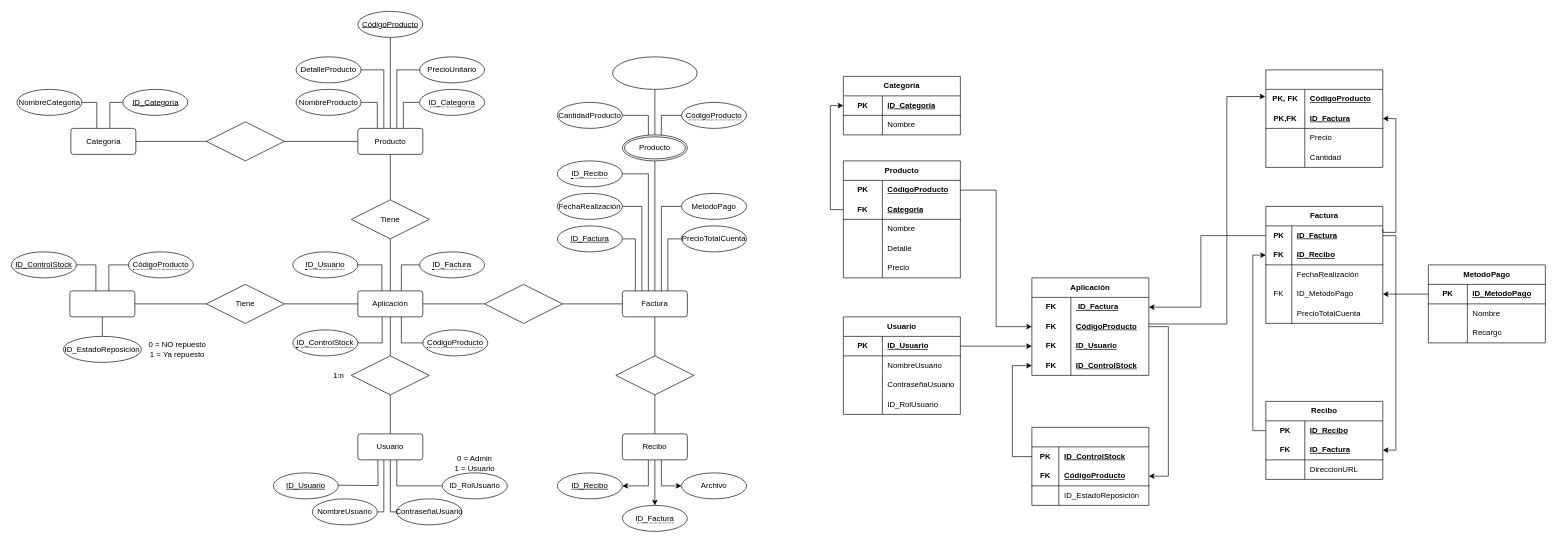
Some shapes in this 1557 by 543 pixel diagram are drawn without their labels. The shapes that lost their labels are listed below. From the top down, each one's box as (x1, y1, x2, y2) in pixels, then its label:
(612, 56, 697, 89): PrecioUnitario Producto
(1265, 69, 1383, 167): ProductosCompra
(206, 121, 284, 161): Pertenece
(69, 290, 135, 317): Control de Stock
(484, 284, 563, 323): Produce
(351, 355, 429, 395): Accede
(615, 355, 694, 395): Genera
(1031, 427, 1149, 505): Control deStock
